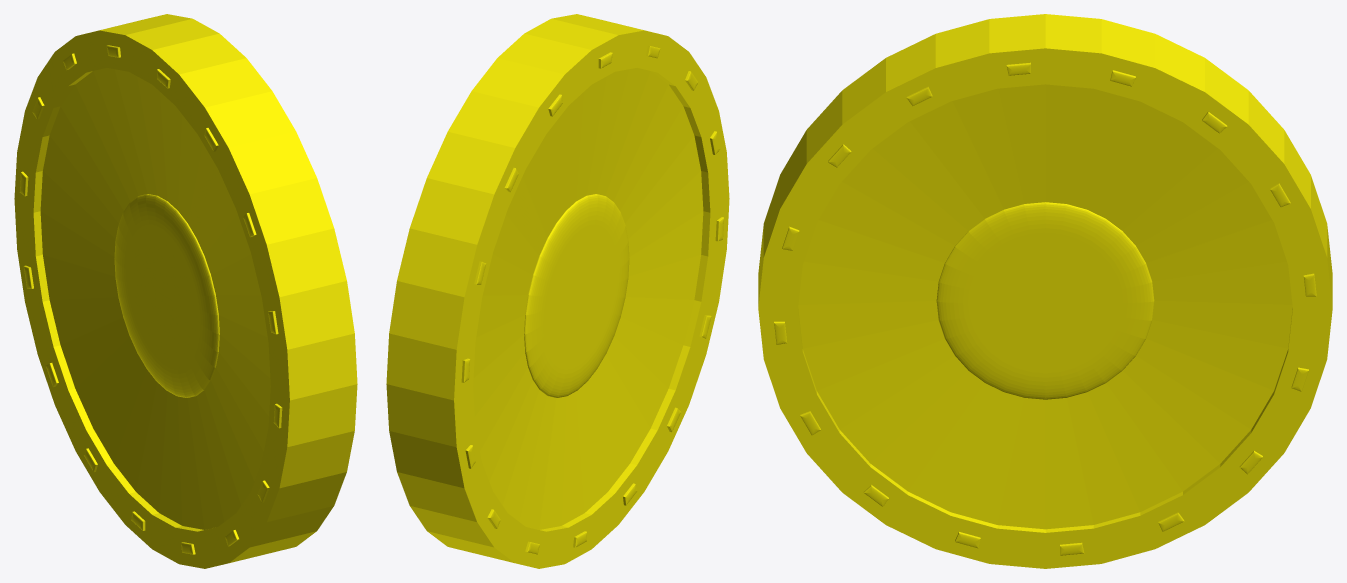
File: c4Yellow.fbx
3 renders of one model, left to right at view 1: azimuth 30°, elevation 25°; view 2: azimuth 150°, elevation 25°; view 3: azimuth 270°, elevation 25°, orthographic. The views are drawn at different scales.
Visible parts, largest first — view 1: Yellow Piece; view 2: Yellow Piece; view 3: Yellow Piece.
Part boxes in pixels (x1,y1,x2,y2): Yellow Piece: [14, 14, 357, 568]; Yellow Piece: [386, 14, 729, 568]; Yellow Piece: [758, 14, 1332, 568].
Bounding box in the file's own units: 26.06 × 170 × 170.
